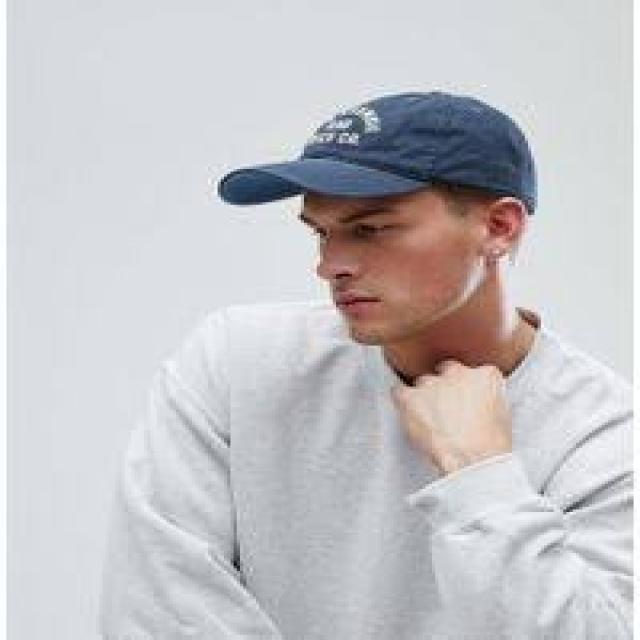cap: (194, 58, 580, 260)
